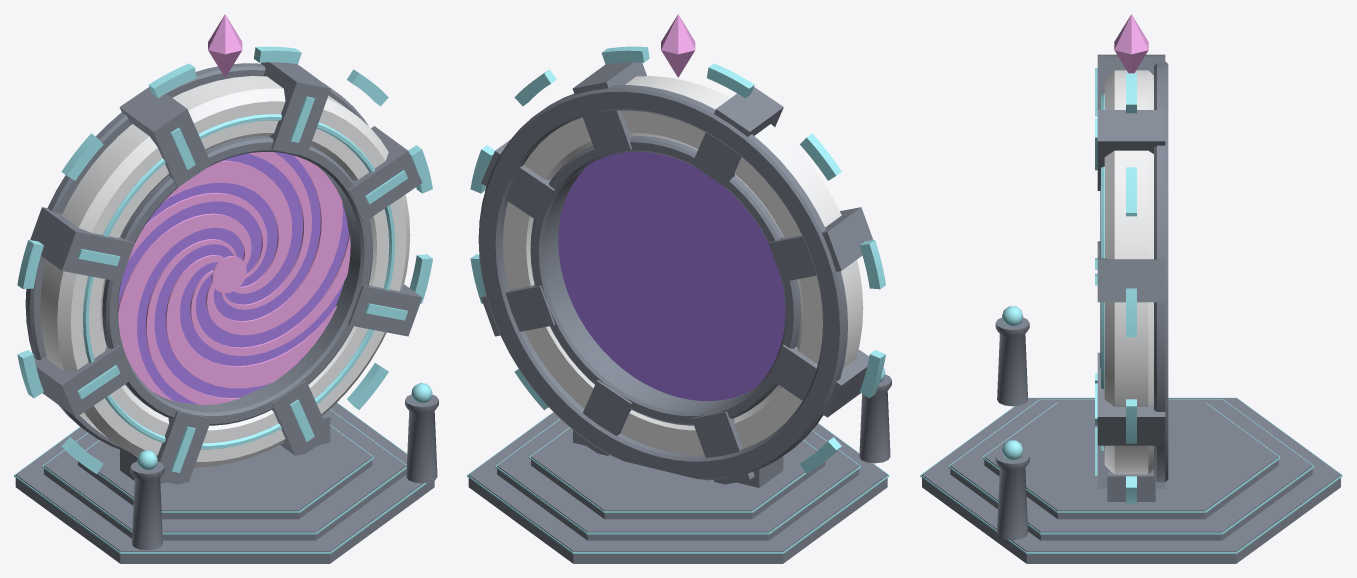
The model's file is FuturePortal.fbx.
The picture shows the model from 3 angles, left to right: view 1: azimuth 30°, elevation 25°; view 2: azimuth 150°, elevation 25°; view 3: azimuth 270°, elevation 25°; orthographic projection.
Parts seen in each view (by area): view 1: FuturePortalTrim, FuturePortalBase, FuturePortalRing, PortalSwirl, PortalVortex, FuturePortalGlow, FuturePortalHalo, FuturePortalSteps, FuturePortalCore; view 2: FuturePortalTrim, PortalVortex, FuturePortalBase, FuturePortalRing, FuturePortalHalo, FuturePortalSteps, FuturePortalCore; view 3: FuturePortalBase, FuturePortalTrim, FuturePortalRing, FuturePortalSteps, FuturePortalHalo, FuturePortalGlow, FuturePortalCore.
Boxes of the visible parts, x1=… form: FuturePortalTrim: x1=25, y1=62, x2=422, y2=484; FuturePortalBase: x1=15, y1=394, x2=438, y2=563; FuturePortalRing: x1=40, y1=76, x2=410, y2=467; PortalSwirl: x1=118, y1=152, x2=350, y2=404; PortalVortex: x1=118, y1=152, x2=348, y2=403; FuturePortalGlow: x1=77, y1=96, x2=407, y2=472; FuturePortalHalo: x1=17, y1=46, x2=432, y2=473; FuturePortalSteps: x1=14, y1=383, x2=432, y2=553; FuturePortalCore: x1=208, y1=14, x2=242, y2=77; FuturePortalTrim: x1=478, y1=62, x2=872, y2=484; PortalVortex: x1=558, y1=152, x2=785, y2=400; FuturePortalBase: x1=468, y1=374, x2=891, y2=563; FuturePortalRing: x1=503, y1=76, x2=863, y2=455; FuturePortalHalo: x1=470, y1=46, x2=885, y2=474; FuturePortalSteps: x1=467, y1=368, x2=889, y2=553; FuturePortalCore: x1=661, y1=14, x2=695, y2=77; FuturePortalBase: x1=922, y1=317, x2=1340, y2=563; FuturePortalTrim: x1=1097, y1=54, x2=1168, y2=488; FuturePortalRing: x1=1104, y1=70, x2=1153, y2=474; FuturePortalSteps: x1=920, y1=306, x2=1342, y2=553; FuturePortalHalo: x1=1126, y1=73, x2=1136, y2=504; FuturePortalGlow: x1=1095, y1=68, x2=1104, y2=475; FuturePortalCore: x1=1114, y1=14, x2=1148, y2=73.
Size of the model in its own units: 1672 by 1845 by 1492.
